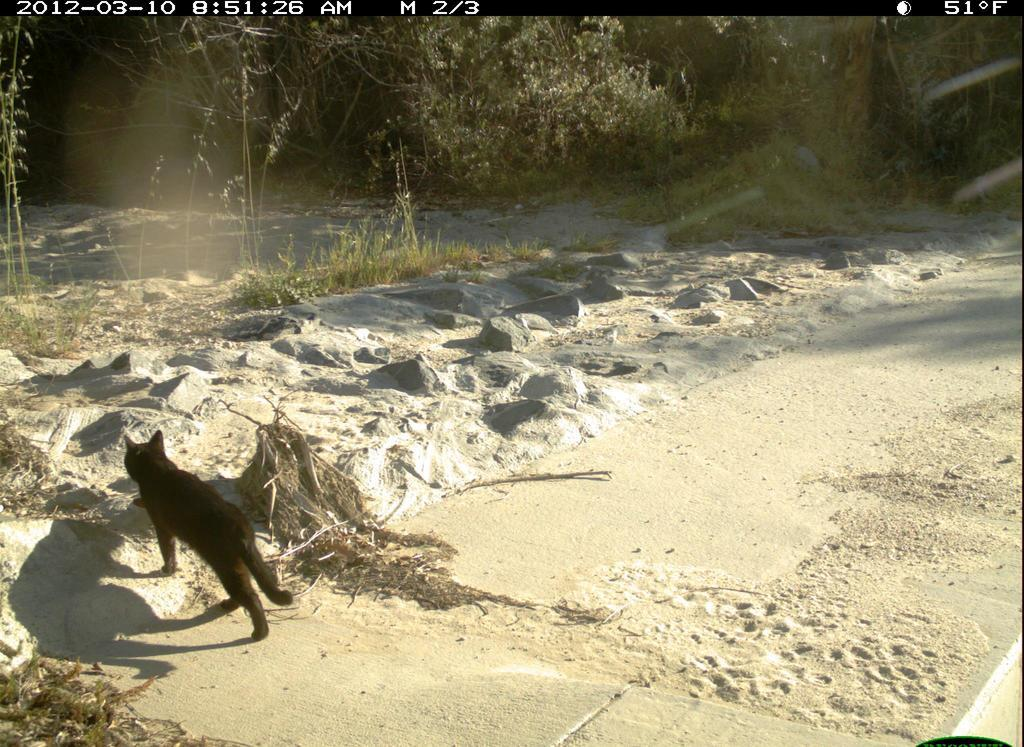cat: (102, 418, 313, 649)
